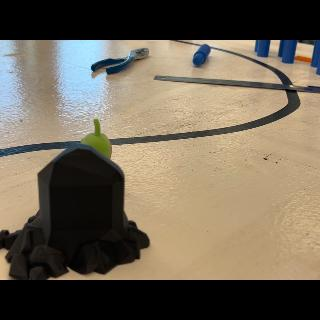teletubby: (81, 119, 112, 159)
